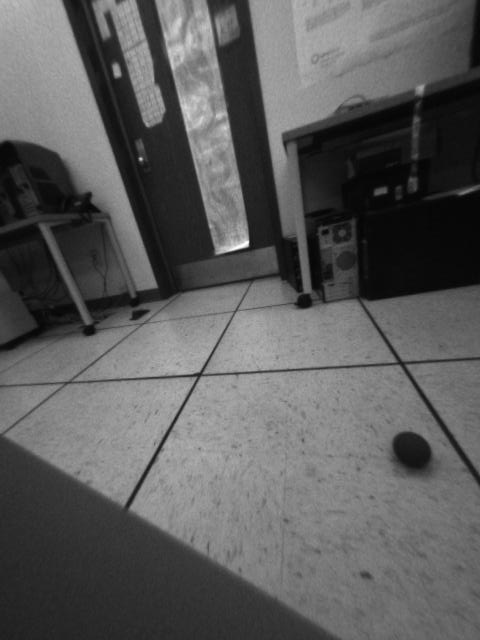dogtoy: (385, 425, 438, 477)
